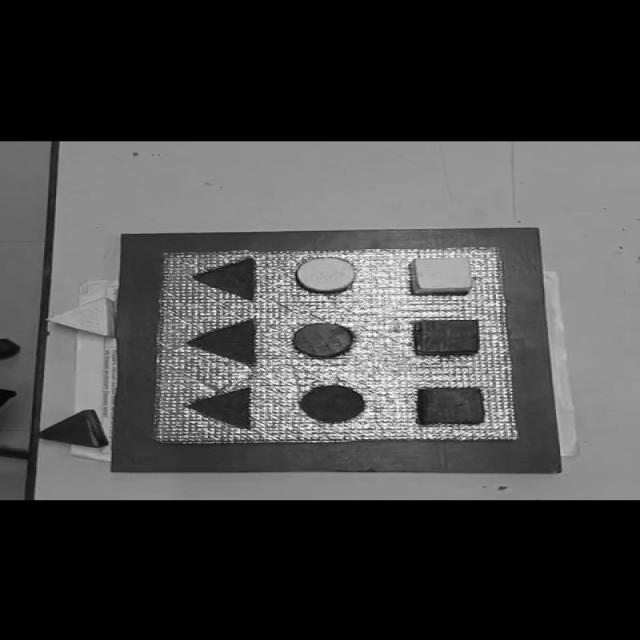bcube: (416, 386, 488, 426)
mtcircle: (298, 384, 367, 423)
mttriangle: (185, 318, 259, 366), (186, 386, 256, 429), (192, 256, 258, 300)
rcircle: (292, 322, 354, 358)
rcube: (415, 318, 482, 356)
rtriangle: (36, 409, 108, 448)
wb: (154, 245, 519, 444)
ycircle: (294, 256, 358, 294)
ycube: (409, 255, 474, 295)
ytriangle: (43, 297, 116, 338)
